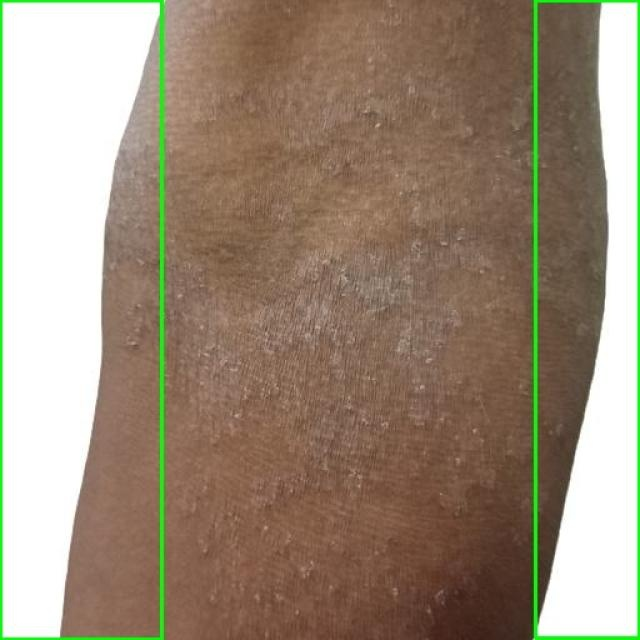Eczema: (0, 0, 161, 639), (535, 0, 639, 639)
